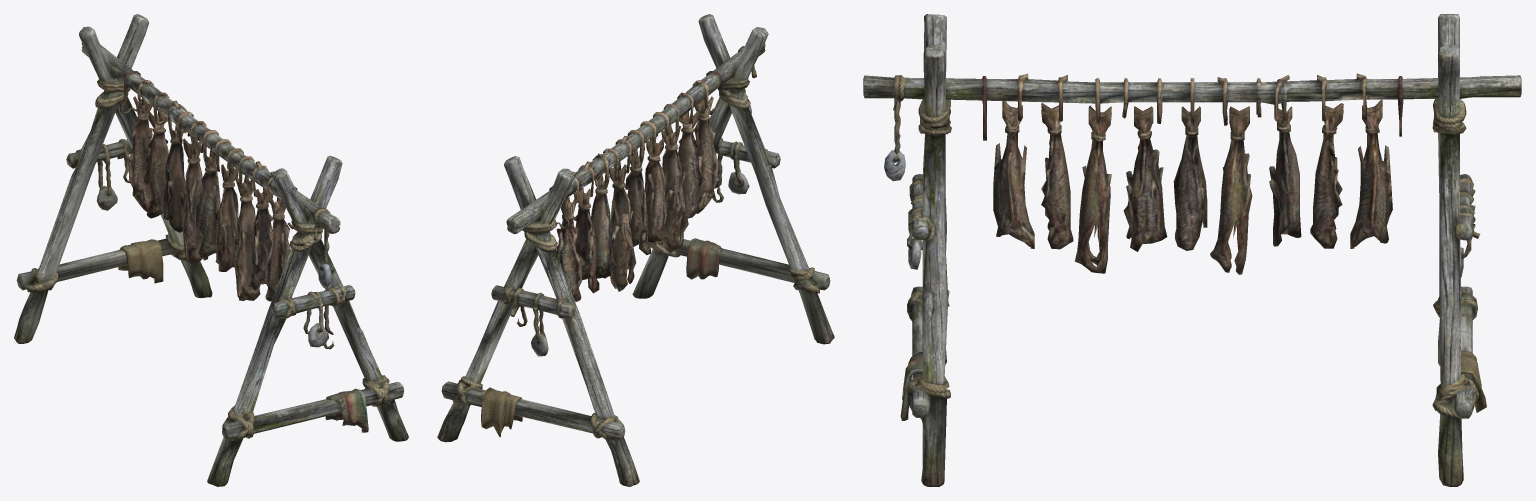
The model's file is kit_drying_rack_hero.glb.
3 views of the same model, side by side, from view 1: azimuth 30°, elevation 25°; view 2: azimuth 150°, elevation 25°; view 3: azimuth 270°, elevation 25° (orthographic). The views are drawn at different scales.
Parts seen in each view (by area): view 1: kit_drying_rack_hero; view 2: kit_drying_rack_hero; view 3: kit_drying_rack_hero.
Boxes of the visible parts, x1,y1,x2,y2 form: kit_drying_rack_hero: (14, 14, 408, 486); kit_drying_rack_hero: (437, 14, 834, 486); kit_drying_rack_hero: (863, 14, 1521, 486).
Bounding box in the file's own units: 1.84 × 2.64 × 4.
Materials: 1 (1 with a texture image).
